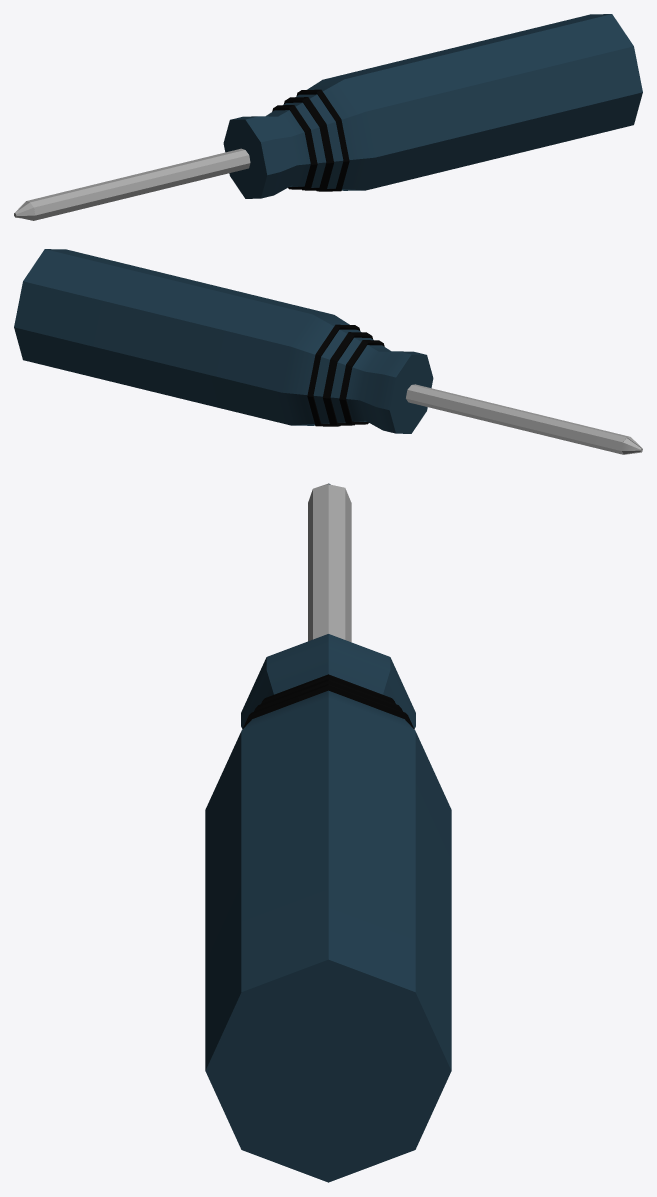
Rendered from Screwdriver.fbx.
3 views of the same model, one above another, from view 1: azimuth 30°, elevation 25°; view 2: azimuth 150°, elevation 25°; view 3: azimuth 270°, elevation 25° (orthographic). The views are drawn at different scales.
Visible parts, largest first — view 1: pCylinder1; view 2: pCylinder1; view 3: pCylinder1.
Boxes of the visible parts, x1,y1,x2,y2 form: pCylinder1: (14, 14, 642, 220); pCylinder1: (14, 249, 642, 454); pCylinder1: (205, 483, 451, 1182).
Size of the model in its own units: 11.2 by 2 by 2.
